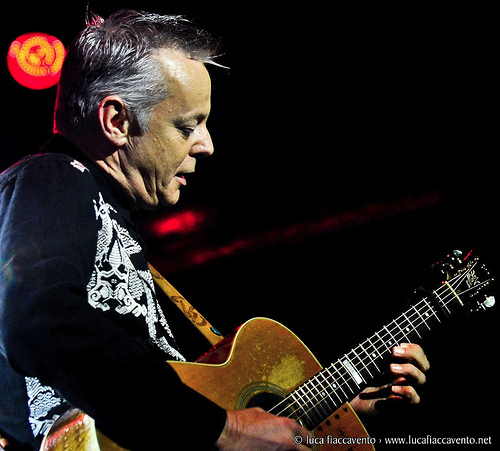guitar: (45, 250, 497, 451)
